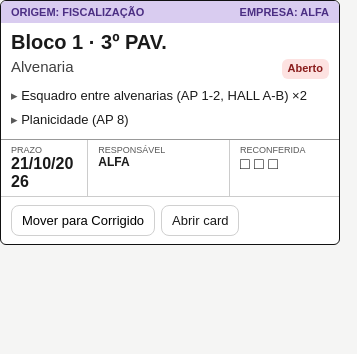
Test: <CartaoPacote/> › cada linha é um botão expansível com aria-expanded que mostra as NCs dela
Expected: the text "esquadro incompatível" is not shown
Click the button "Esquadro entre alvenarias (AP 1-2, HALL A-B) ×2".
click(170, 96)  # box [11,85,329,106]
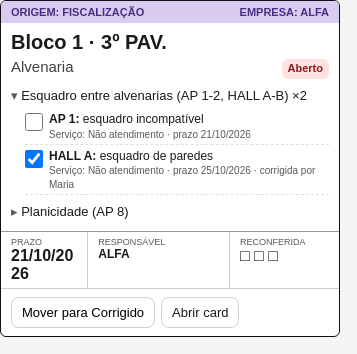
Result: the button "Esquadro entre alvenarias (AP 1-2, HALL A-B) ×2" is expanded
Result: the text "esquadro incompatível" is shown at [83,112,204,126]
Result: the text "esquadro de paredes" is shown at [100,149,213,163]
Click the button "Esquadro entre alvenarias (AP 1-2, HALL A-B) ×2".
click(170, 96)  # box [11,85,329,106]
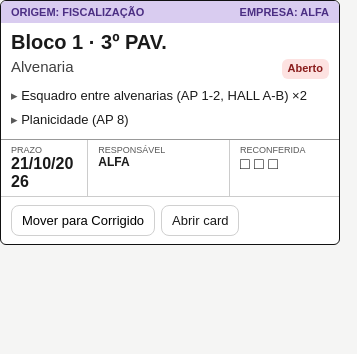
Result: the button "Esquadro entre alvenarias (AP 1-2, HALL A-B) ×2" is collapsed at [11,85,329,106]
